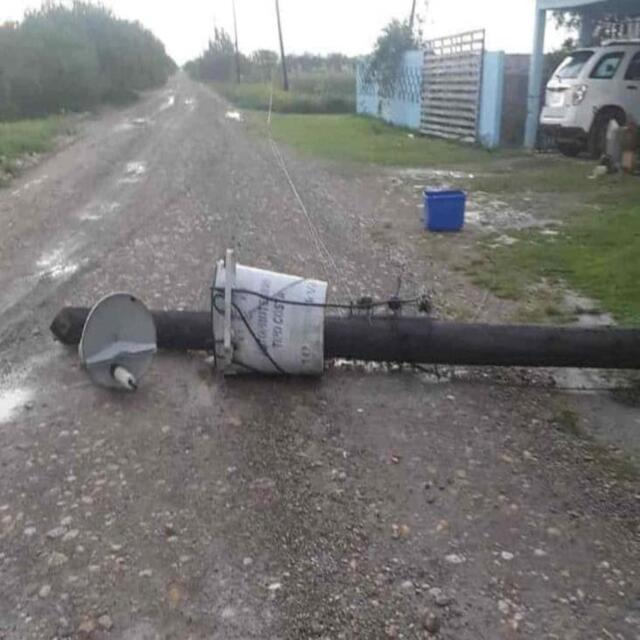Inclined Pole: (52, 242, 640, 416)
